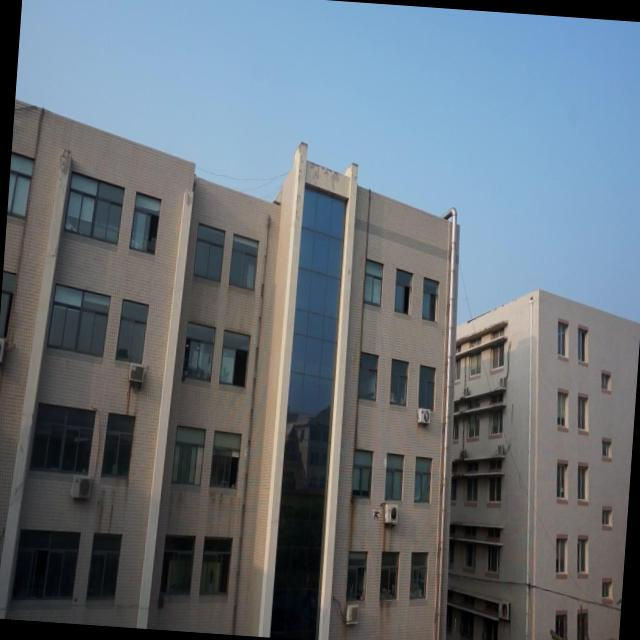drone: (370, 506, 381, 520)
